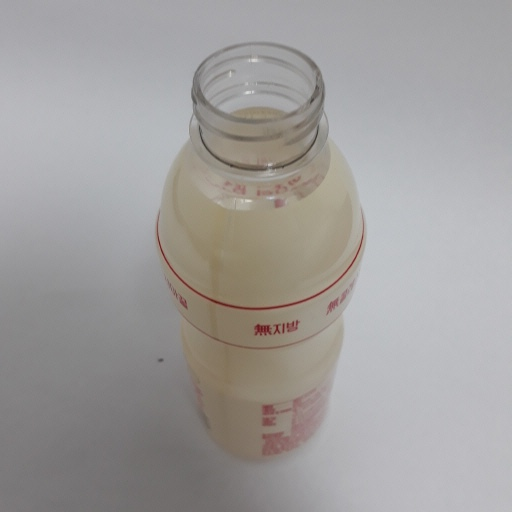Plastic_0: (153, 42, 369, 460)
